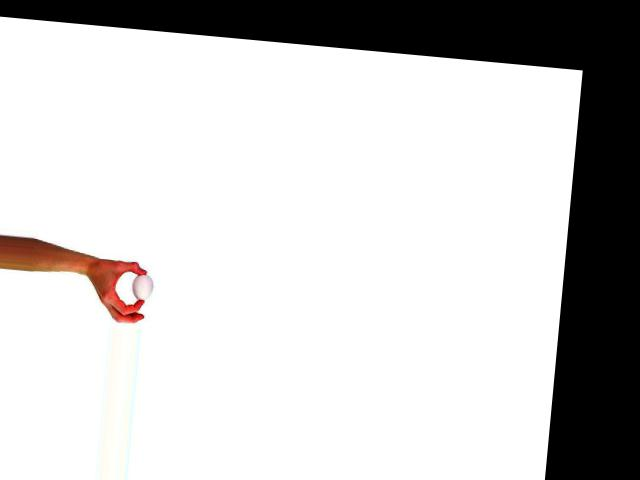egg: (130, 273, 154, 300)
